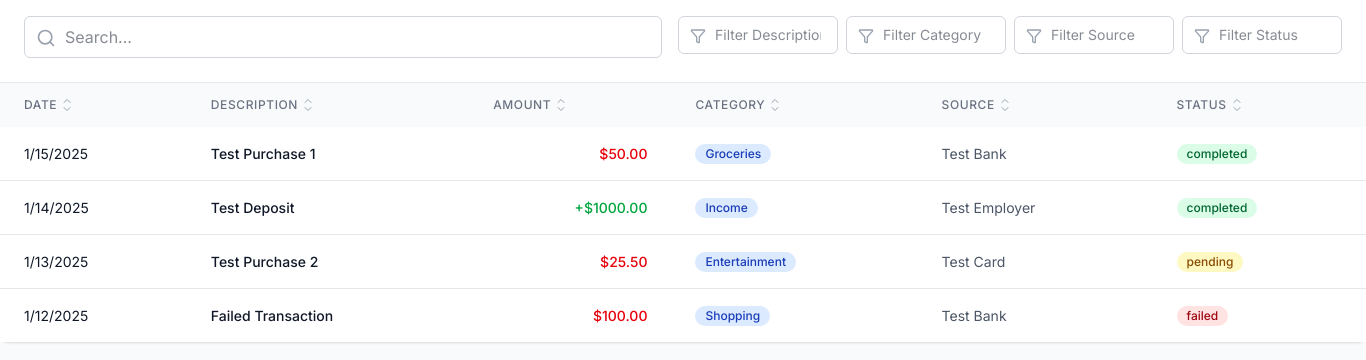
Test: TransactionsTable › Data Table Integration › search input filters transactions
Note: Type in search
Type "Deposit" into the field with placeholder "Search..." at (343, 37), box left=24, top=16, right=662, bottom=58
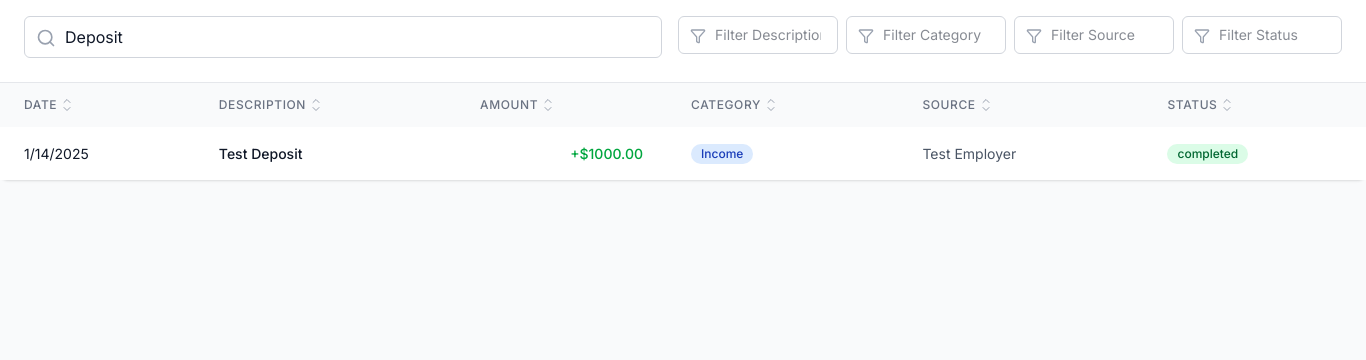
expect the text "Test Deposit" is shown: met, box left=219, top=144, right=302, bottom=162
expect the text "Test Purchase 1" is gone: met
expect the text "Test Purchase 2" is gone: met
